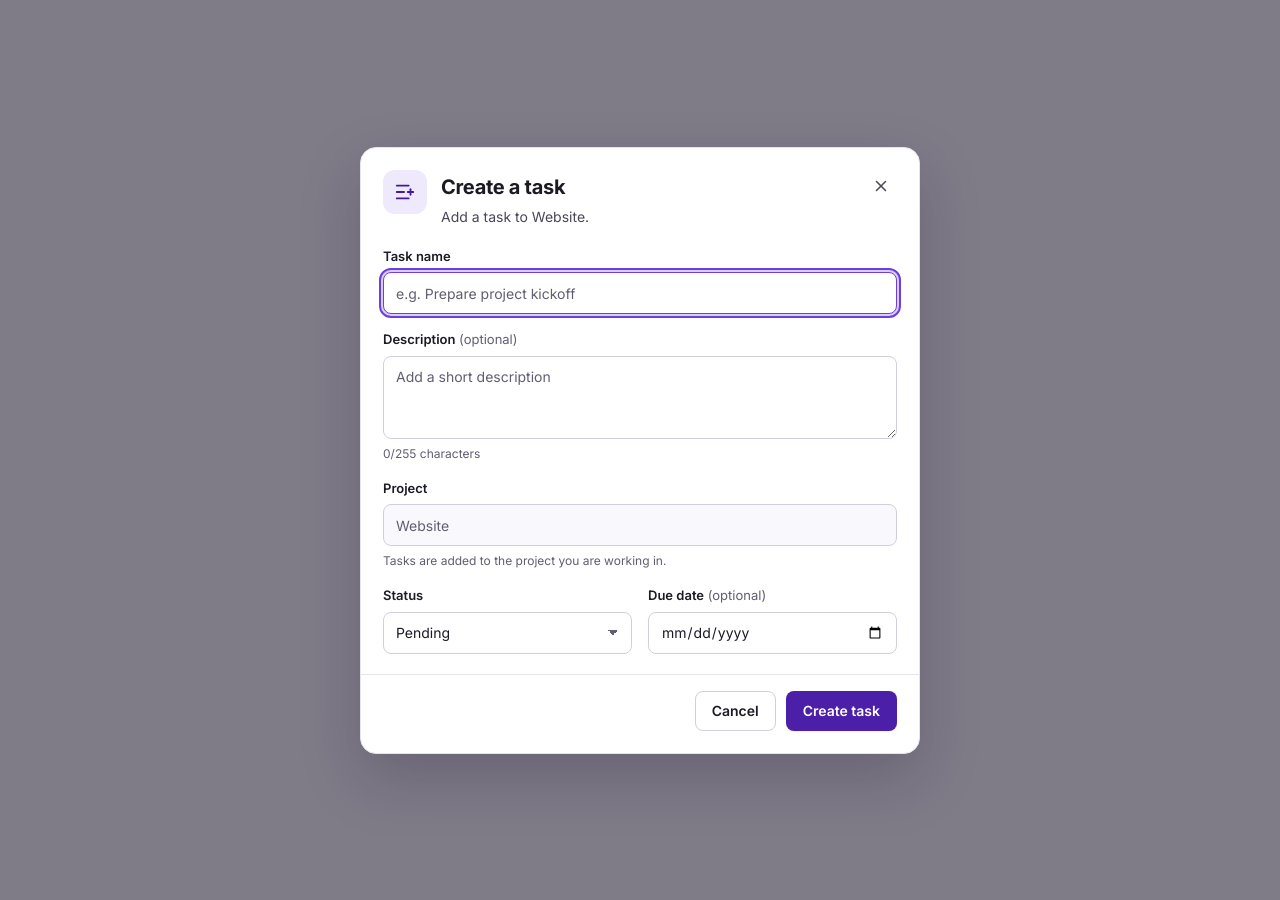
Test: shows server field errors next to the right input and stays open
The width and height of the screenshot is (1280, 900).
In the field labelled "Task name": (640, 293) [383,272,897,314], type "Duplicate"
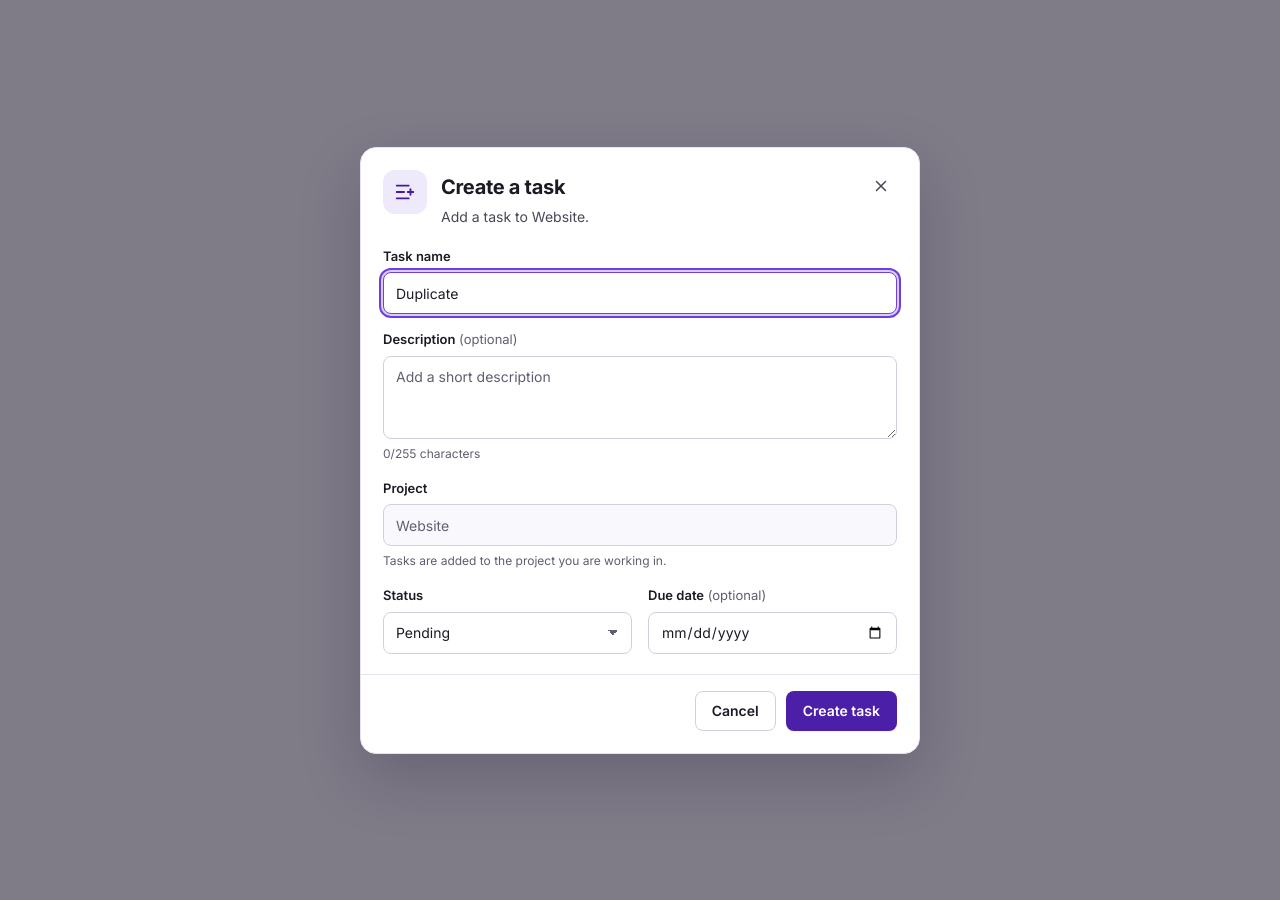
Click the button "Create task": (841, 710) [786,690,897,730]
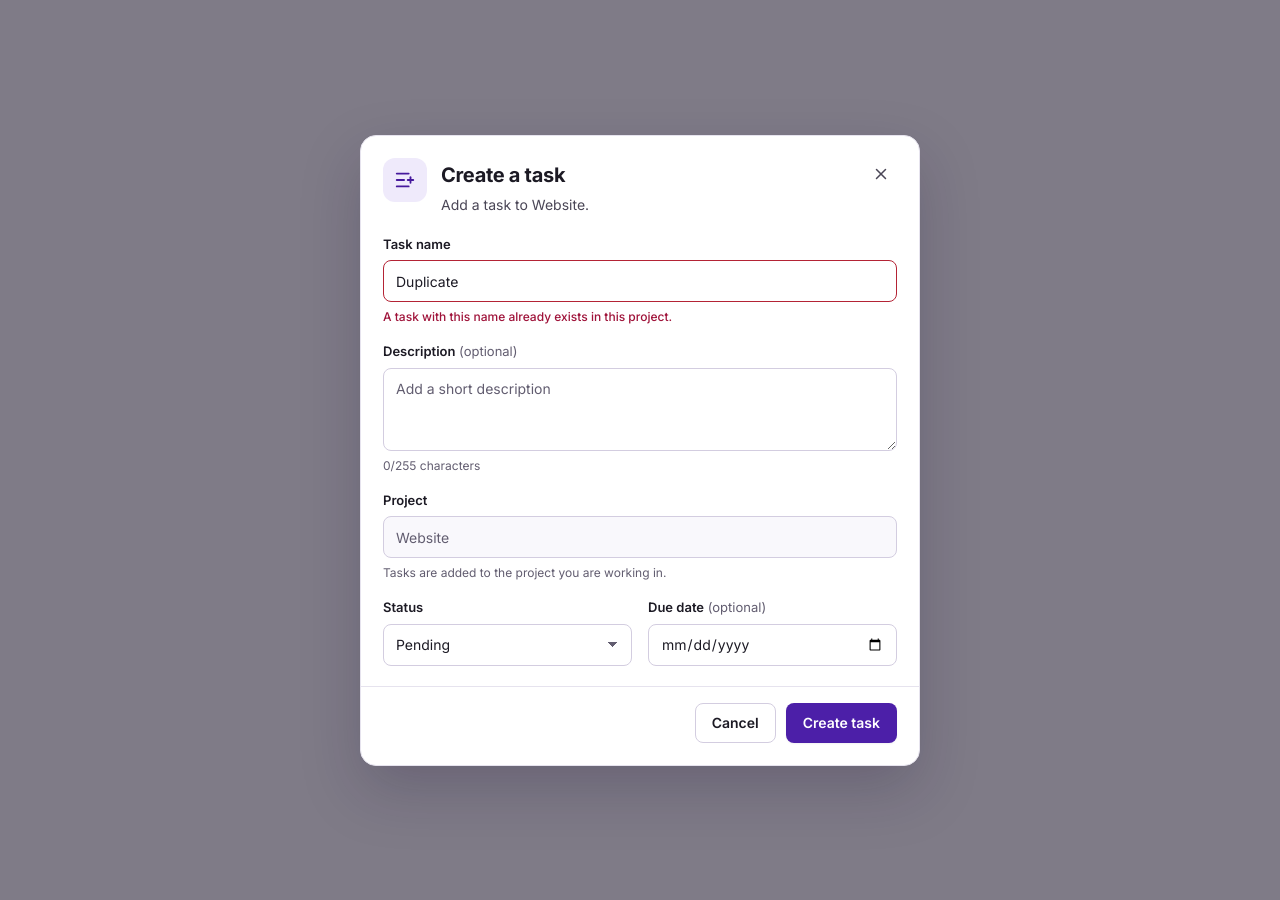
Check: the text "A task with this name already exists in this project." is shown, box [383,309,672,324]
